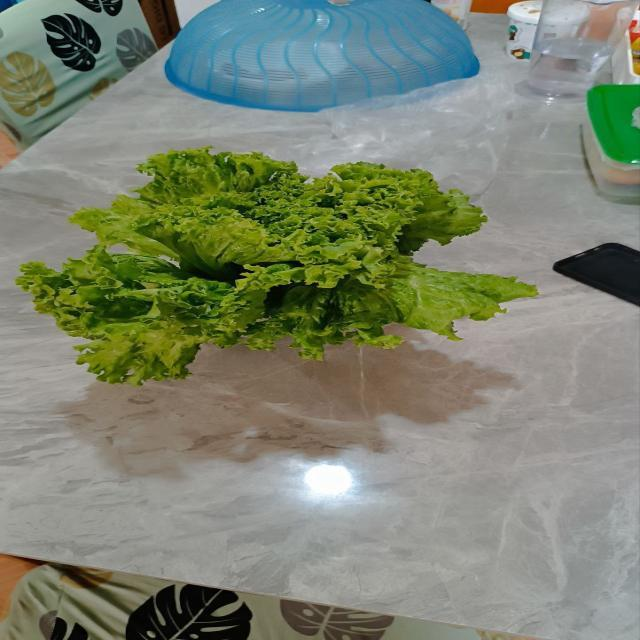Lettuce-Ready-to-Harvest: (30, 145, 524, 397)
